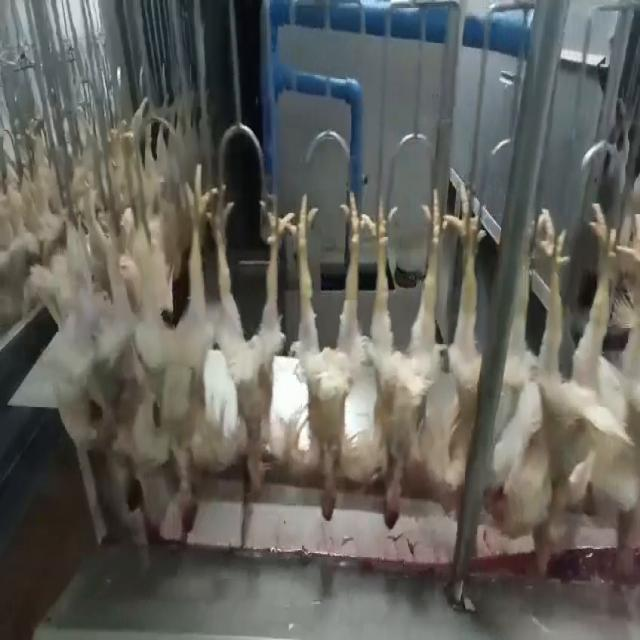chicken: (349, 185, 448, 532), (487, 213, 577, 573), (202, 181, 294, 498), (292, 195, 368, 524), (135, 176, 206, 525), (575, 195, 639, 566), (73, 179, 144, 506), (429, 181, 486, 506)
